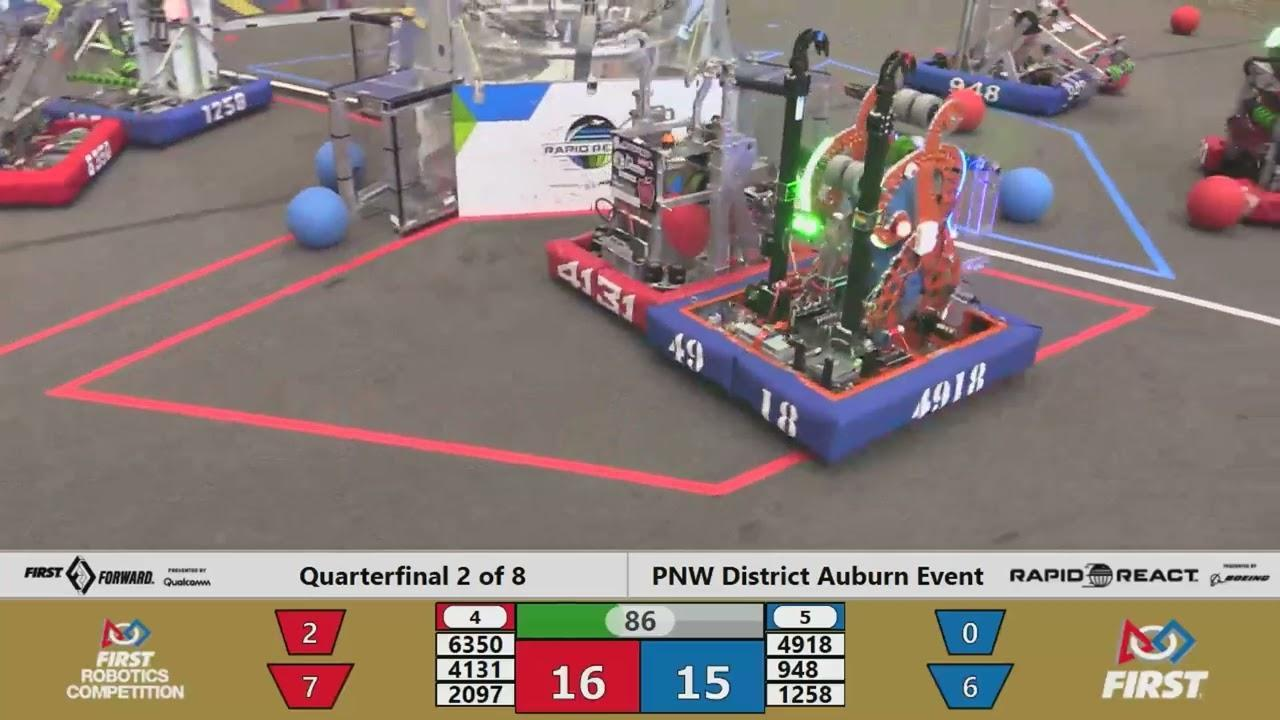robot: (647, 26, 1045, 480), (541, 42, 840, 330), (51, 0, 278, 151), (900, 4, 1140, 124), (0, 0, 131, 210), (1194, 23, 1280, 240)
